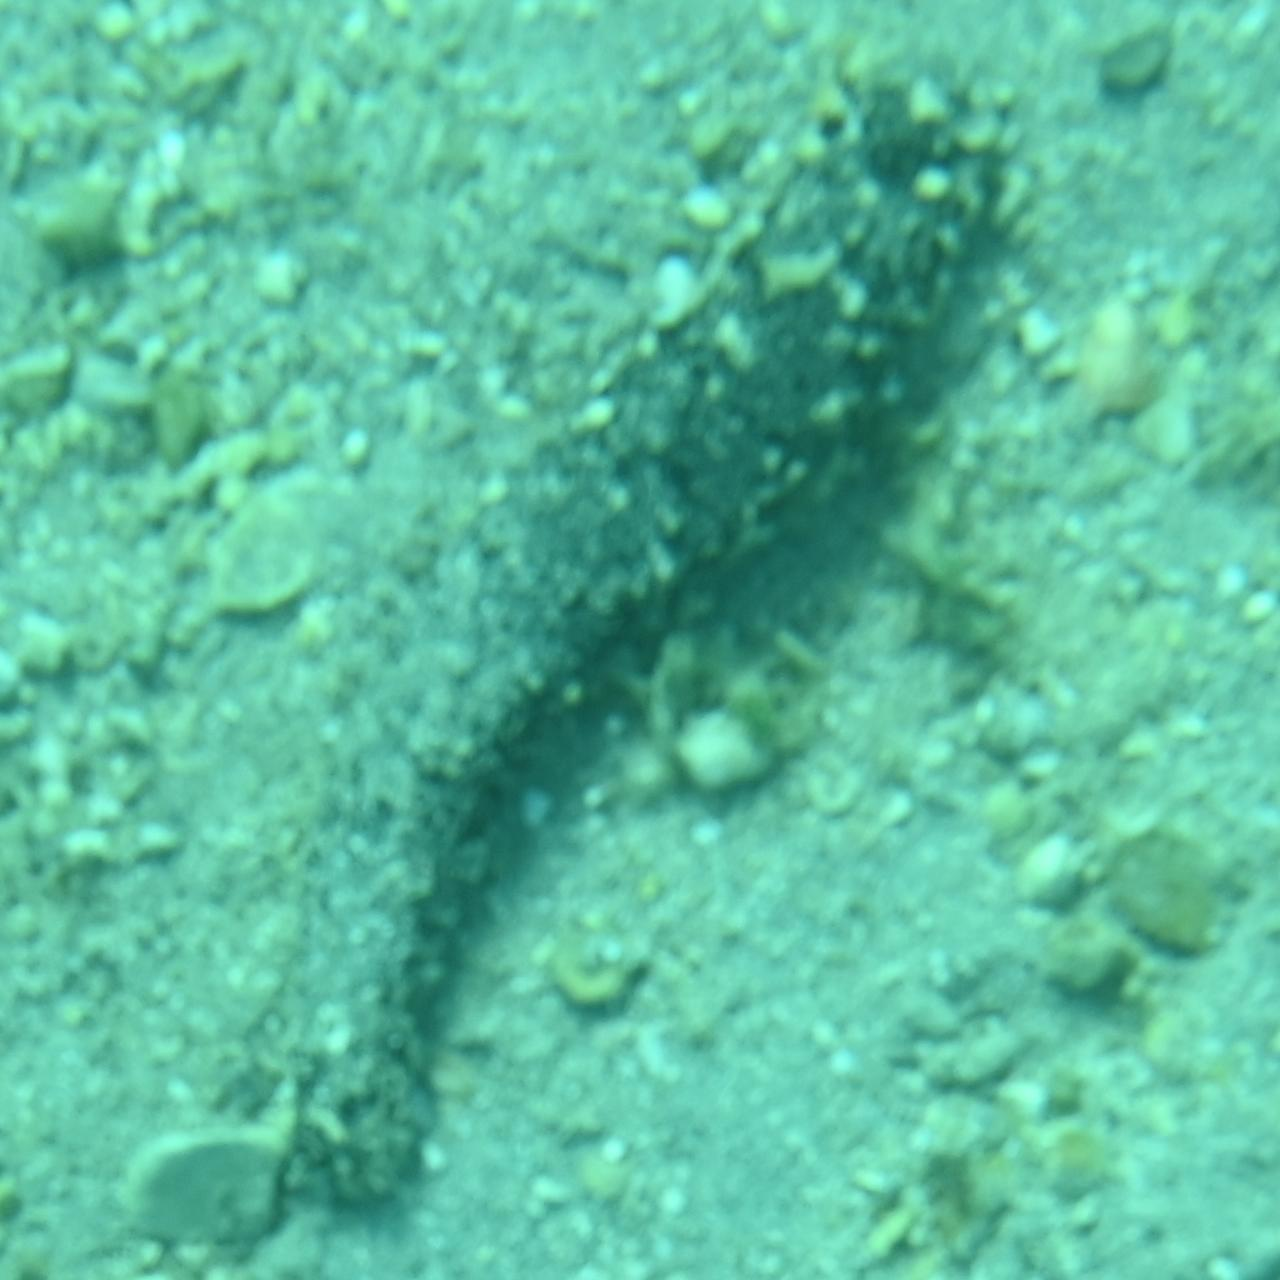Holothuria tubulosa: (238, 68, 1042, 1212)
